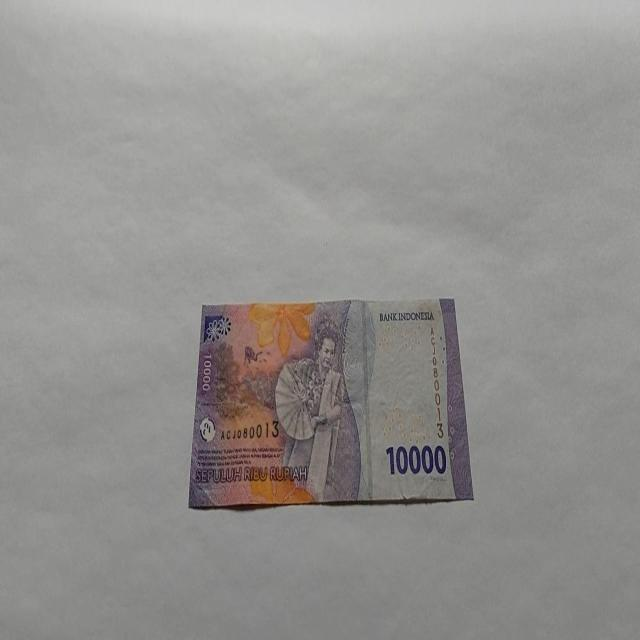Kertas: (187, 296, 473, 510), (385, 442, 447, 477)
